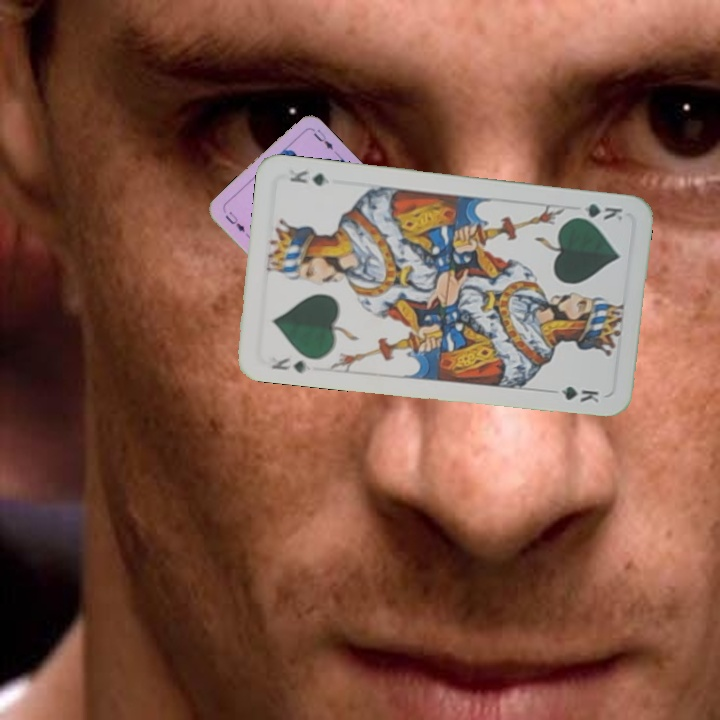EU: (221, 207, 248, 235)
GK: (568, 199, 625, 223), (268, 353, 309, 376)
